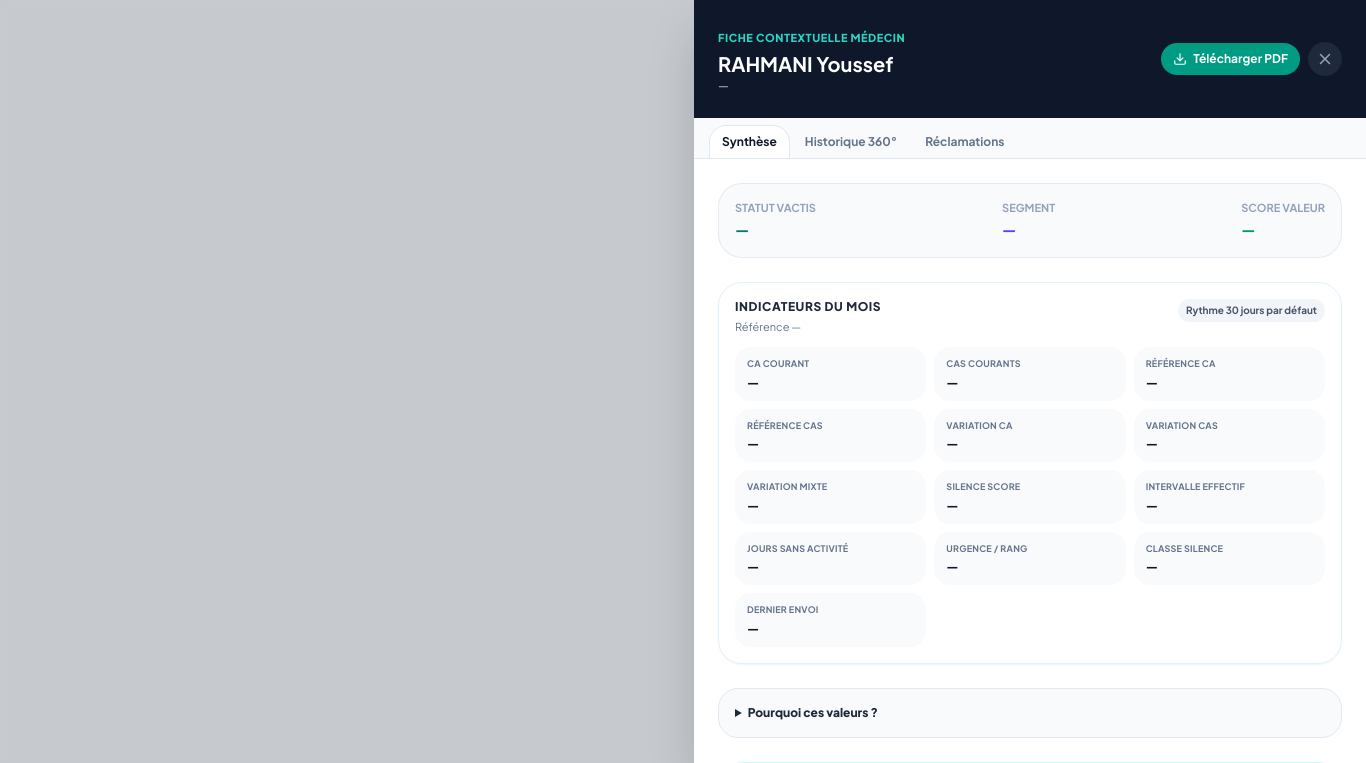
Test: FicheContextuelleDrawer fiche 360° › charge l’historique 360° seulement à l’ouverture de son onglet
Expected: the heading "RAHMANI Youssef" is shown, [718, 48, 905, 78]
Click the tab "Historique 360°".
click(851, 142)  # box [793, 126, 909, 158]
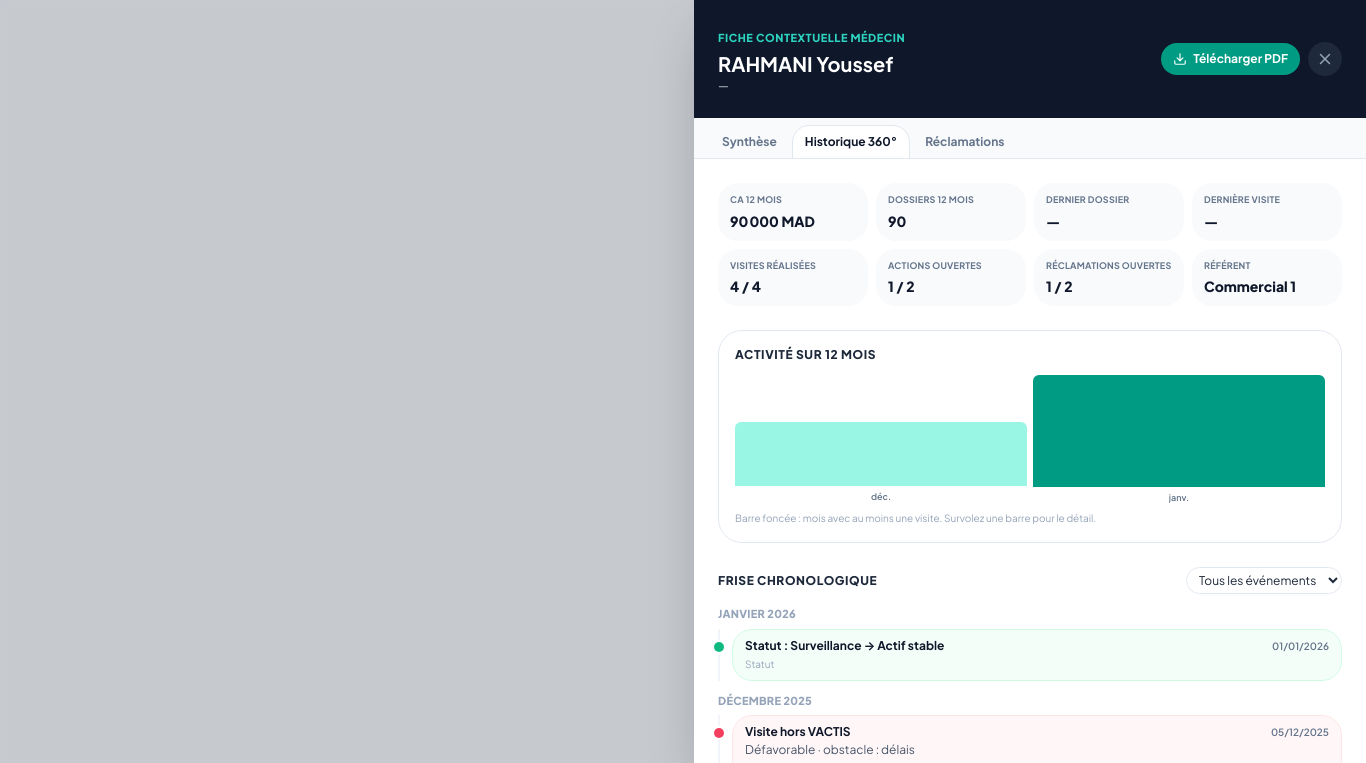
Now the text "Statut : Surveillance → Actif stable" is shown, box [745, 638, 944, 654]
Now the text "janvier 2026" is shown, box [718, 607, 796, 620]
Select "Visite" in the dropdown named "Type d'événement" at (1264, 580), box [1186, 567, 1342, 594]
(page scrolled)
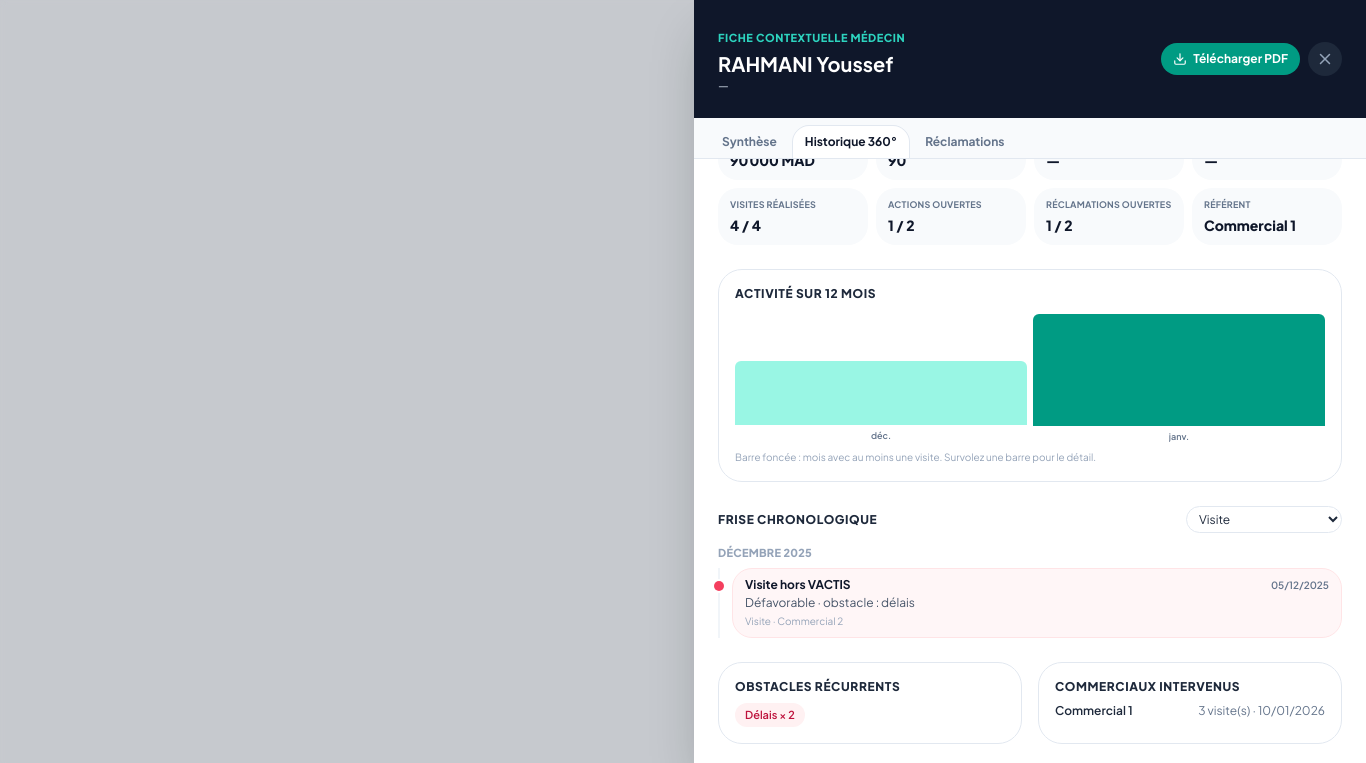
Now the text "Statut : Surveillance → Actif stable" is gone
Now the list item "Délais × 2" is shown, box [735, 702, 805, 727]
